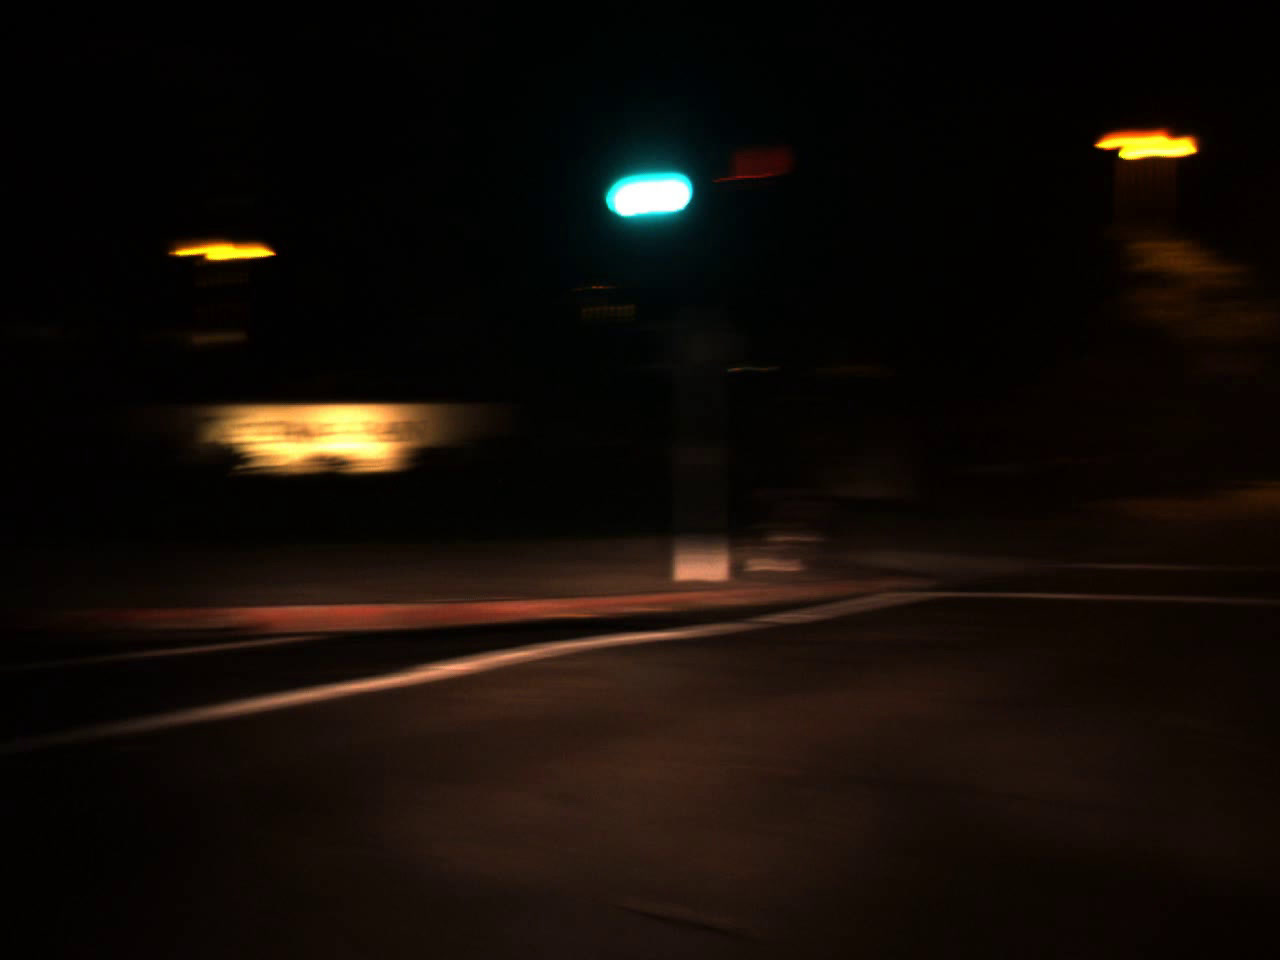go: (593, 112, 693, 232)
